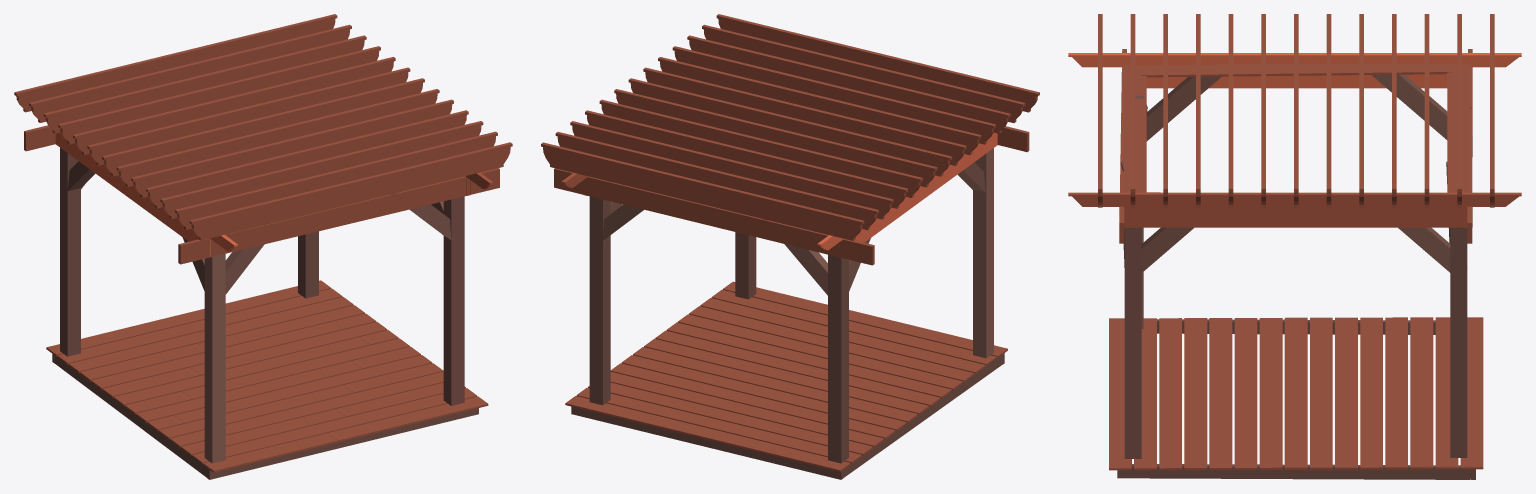
The model's file is GAZEBO1.fbx.
3 renders of one model, left to right at view 1: azimuth 30°, elevation 25°; view 2: azimuth 150°, elevation 25°; view 3: azimuth 270°, elevation 25°, orthographic. The views are drawn at different scales.
Visible parts, largest first — view 1: Cube.014, Cube.005, Cube.011, Cube.006, Cube.008, Cube.004, Cube.010, Cube, Cube.003, Cube.007, Cube.024, Cube.021 (+1 smaller); view 2: Cube.014, Cube.005, Cube.012, Cube.007, Cube.004, Cube.006, Cube.001, Cube.010, Cube.003, Cube.008, Cube.023, Cube.022 (+2 smaller); view 3: Cube.005, Cube.014, Cube.009, Cube.010, Cube.008, Cube.007, Cube.002, Cube.019, Cube.016, Cube.017, Cube.026, Cube.020 (+5 smaller).
Boxes of the visible parts, x1=… form: Cube.014: x1=14, y1=14, x2=512, y2=240; Cube.005: x1=46, y1=280, x2=488, y2=472; Cube.011: x1=178, y1=168, x2=499, y2=264; Cube.006: x1=204, y1=253, x2=225, y2=463; Cube.008: x1=443, y1=196, x2=464, y2=405; Cube.004: x1=60, y1=148, x2=80, y2=356; Cube.010: x1=55, y1=132, x2=237, y2=257; Cube: x1=207, y1=408, x2=478, y2=479; Cube.003: x1=55, y1=356, x2=207, y2=477; Cube.007: x1=298, y1=231, x2=318, y2=298; Cube.024: x1=225, y1=244, x2=264, y2=294; Cube.021: x1=390, y1=192, x2=451, y2=240; Cube.014: x1=541, y1=14, x2=1039, y2=240; Cube.005: x1=565, y1=281, x2=1007, y2=472; Cube.012: x1=554, y1=168, x2=874, y2=265; Cube.007: x1=589, y1=196, x2=610, y2=405; Cube.004: x1=828, y1=254, x2=848, y2=463; Cube.006: x1=973, y1=148, x2=993, y2=358; Cube.001: x1=571, y1=406, x2=843, y2=479; Cube.010: x1=817, y1=132, x2=997, y2=250; Cube.003: x1=843, y1=354, x2=1002, y2=477; Cube.008: x1=735, y1=232, x2=756, y2=299; Cube.023: x1=763, y1=219, x2=827, y2=295; Cube.022: x1=603, y1=204, x2=643, y2=240; Cube.005: x1=1109, y1=317, x2=1483, y2=470; Cube.014: x1=1098, y1=14, x2=1494, y2=207; Cube.009: x1=1068, y1=192, x2=1521, y2=227; Cube.010: x1=1068, y1=53, x2=1521, y2=88; Cube.008: x1=1124, y1=227, x2=1141, y2=458; Cube.007: x1=1450, y1=227, x2=1467, y2=457; Cube.002: x1=1122, y1=464, x2=1470, y2=479; Cube.019: x1=1140, y1=63, x2=1455, y2=77; Cube.016: x1=1447, y1=64, x2=1470, y2=192; Cube.017: x1=1123, y1=65, x2=1146, y2=192; Cube.026: x1=1372, y1=74, x2=1447, y2=139; Cube.020: x1=1146, y1=76, x2=1221, y2=141.
Bounding box in the file's own units: 1622 × 1306 × 1772.
